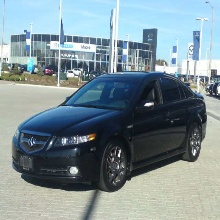no damage: (12, 71, 208, 194)
